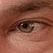eye: (18, 23, 34, 32)
